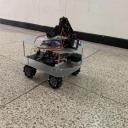cart: (22, 37, 85, 89)
